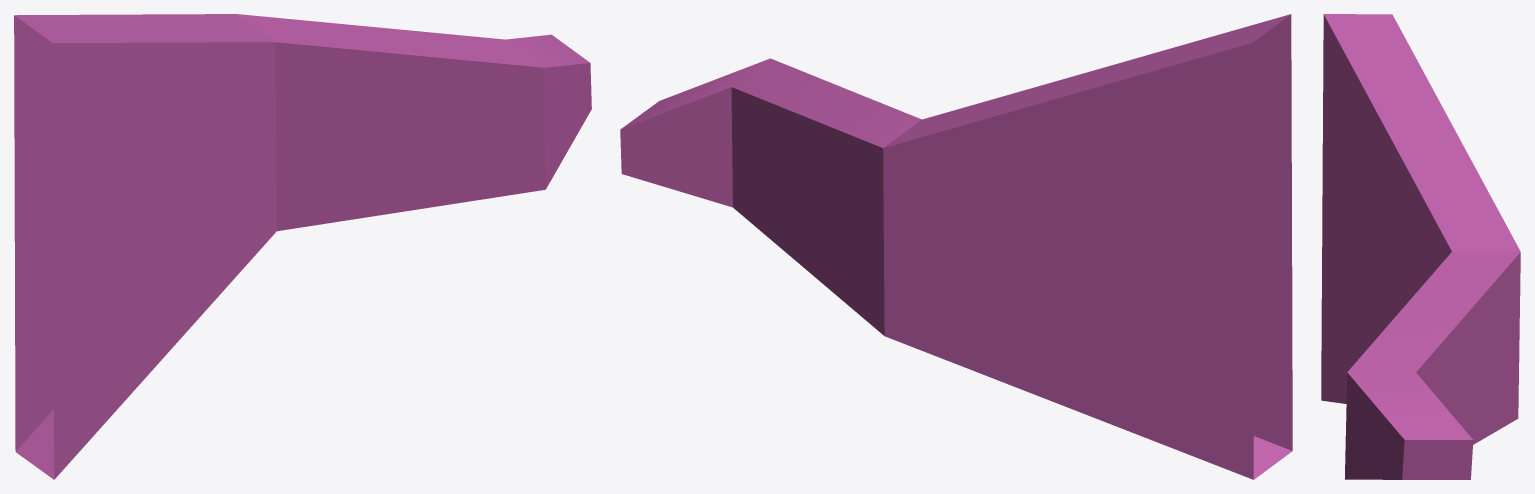
Rendered from BandeiraFlag.fbx.
3 renders of one model, left to right at view 1: azimuth 30°, elevation 25°; view 2: azimuth 150°, elevation 25°; view 3: azimuth 270°, elevation 25°, orthographic. The views are drawn at different scales.
Visible parts, largest first — view 1: polySurface1; view 2: polySurface1; view 3: polySurface1.
Boxes of the visible parts, bbox=[...] form: polySurface1: bbox=[14, 14, 591, 479]; polySurface1: bbox=[620, 14, 1292, 479]; polySurface1: bbox=[1321, 14, 1520, 479].
Bounding box in the file's own units: 8.69 × 6.21 × 2.9.
